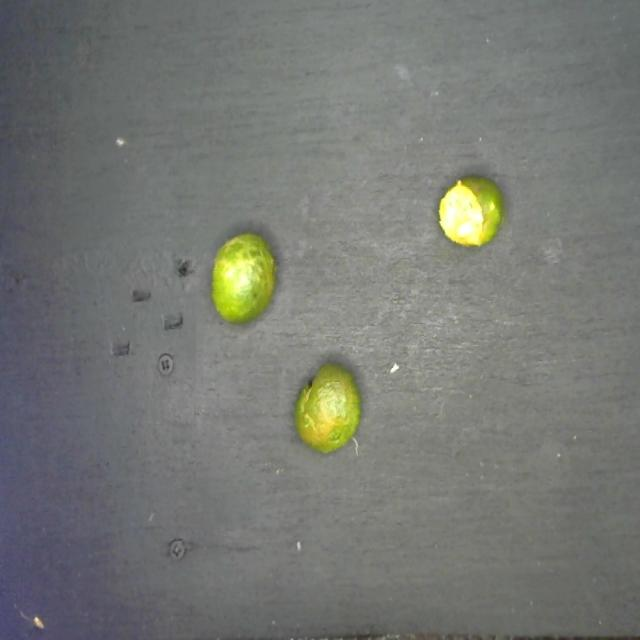biodegradable: (197, 144, 510, 478)
